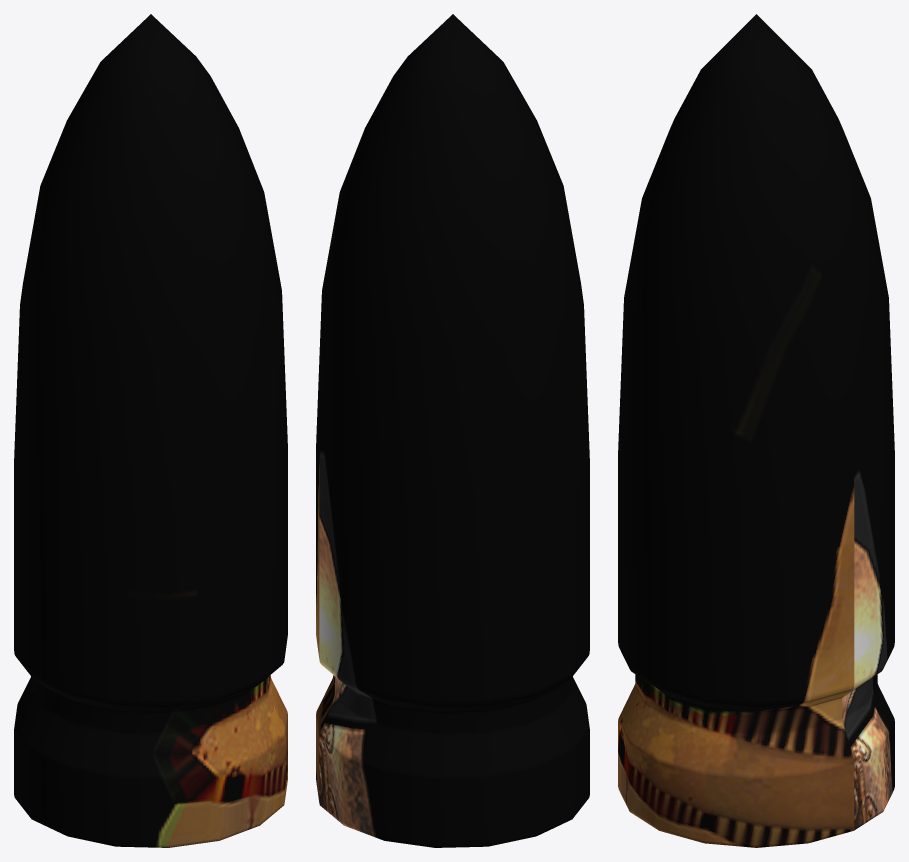
File: bullet_sniper.fbx
The picture shows the model from 3 angles, left to right: view 1: azimuth 30°, elevation 25°; view 2: azimuth 150°, elevation 25°; view 3: azimuth 270°, elevation 25°; orthographic projection.
Visible parts, largest first — view 1: pCylinder1; view 2: pCylinder1; view 3: pCylinder1.
Boxes of the visible parts, box(x1,y1,x2,y2) form: pCylinder1: box(14, 14, 287, 847); pCylinder1: box(316, 14, 589, 847); pCylinder1: box(618, 14, 894, 847).
Bounding box in the file's own units: 1.85 × 5.74 × 1.85.
1 material, 1 textured.
